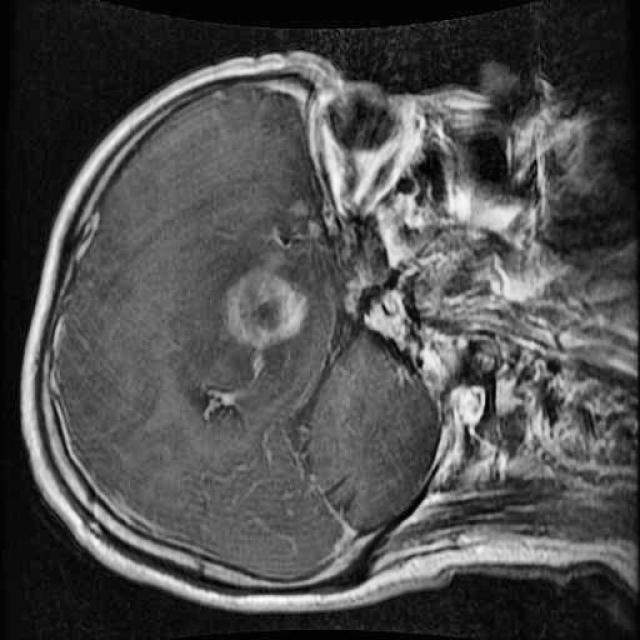Non-Tumor: (174, 244, 335, 442)
